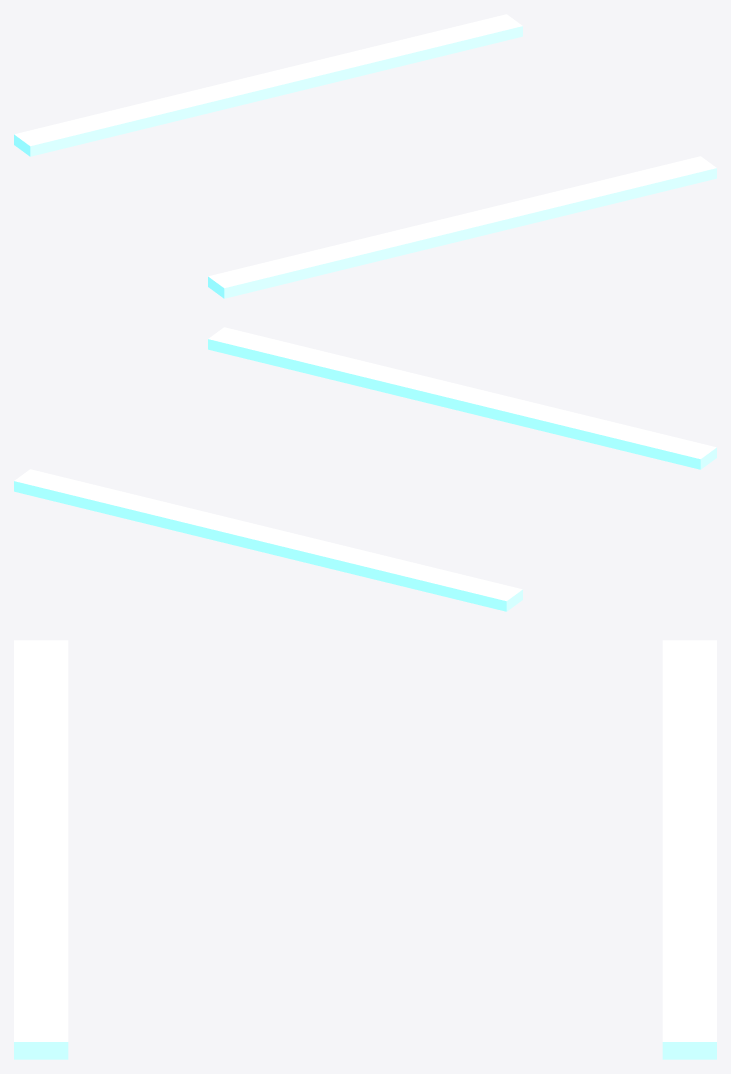
File: corridor light.001.fbx
3 views of the same model, one above another, from view 1: azimuth 30°, elevation 25°; view 2: azimuth 150°, elevation 25°; view 3: azimuth 270°, elevation 25° (orthographic). The views are drawn at different scales.
Parts seen in each view (by area): view 1: corridor light.001; view 2: corridor light.001; view 3: corridor light.001.
Part boxes in pixels (bbox=[...]): corridor light.001: bbox=[14, 14, 716, 298]; corridor light.001: bbox=[14, 327, 716, 611]; corridor light.001: bbox=[14, 640, 716, 1059].
Bounding box in the file's own units: 6.2 × 0.1269 × 4.58.
